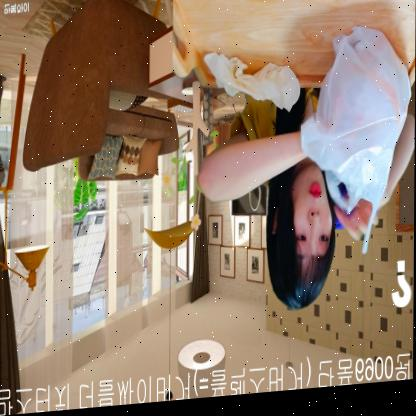streamer: (196, 84, 415, 323)
